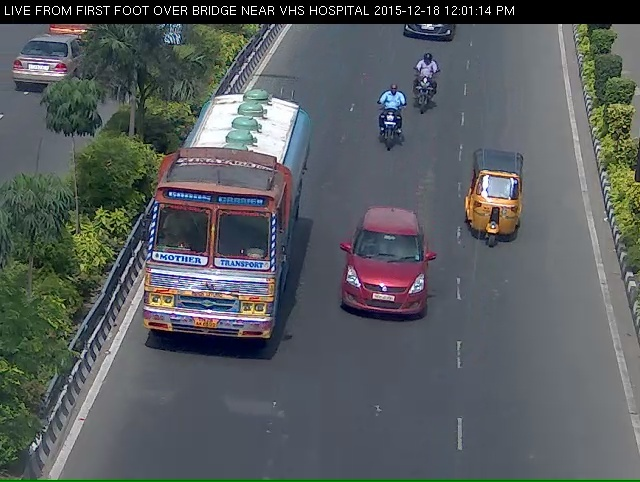Bus: (146, 100, 300, 380)
Car: (332, 223, 440, 347), (462, 155, 530, 263)
Person: (373, 86, 401, 170), (410, 58, 438, 120)
